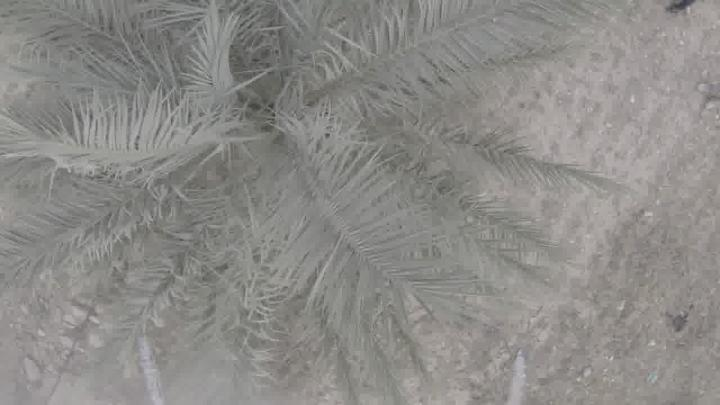Date-Palm-Crown: (78, 0, 438, 300)
